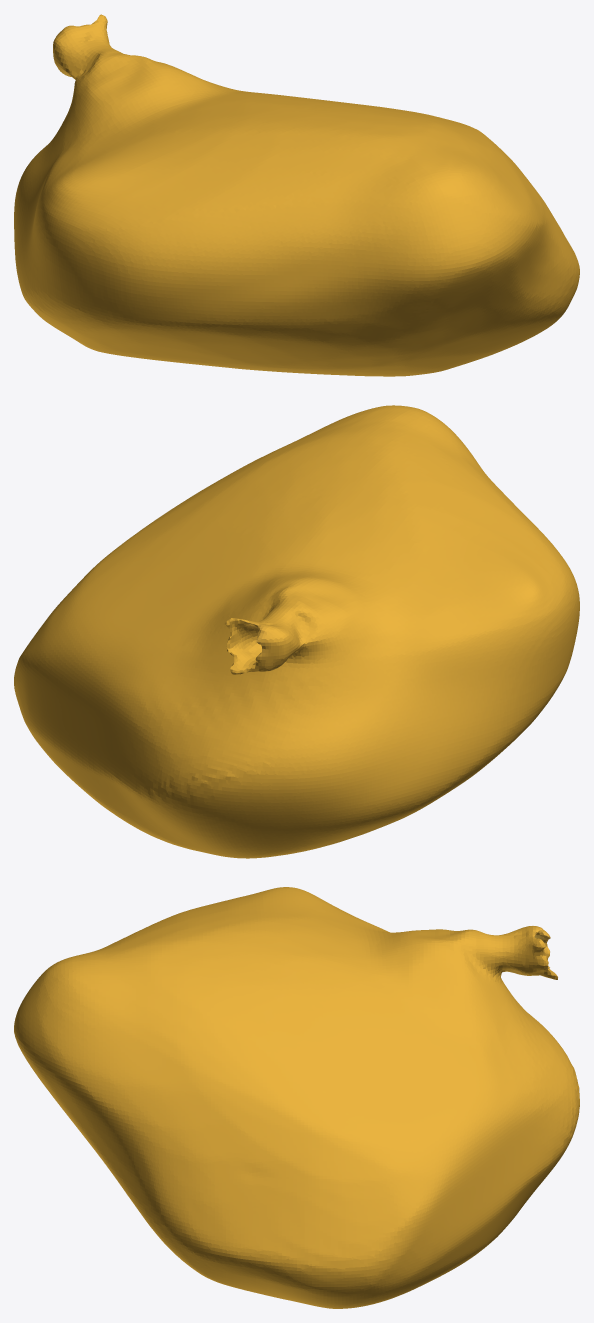
The model's file is sandbag.fbx.
3 renders of one model, top to bottom at view 1: azimuth 30°, elevation 25°; view 2: azimuth 150°, elevation 25°; view 3: azimuth 270°, elevation 25°, orthographic. The views are drawn at different scales.
Visible parts, largest first — view 1: Quad Sphere; view 2: Quad Sphere; view 3: Quad Sphere.
Boxes of the visible parts, box(x1,y1,x2,y2) form: Quad Sphere: box(14, 14, 579, 376); Quad Sphere: box(14, 405, 579, 858); Quad Sphere: box(14, 887, 579, 1308).
Bounding box in the file's own units: 363 × 212 × 378.
